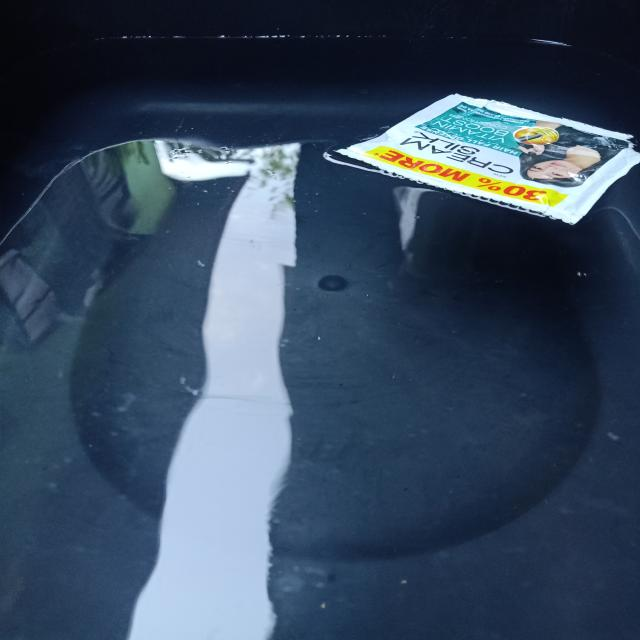Plastic Wrapper: (318, 76, 640, 229)
